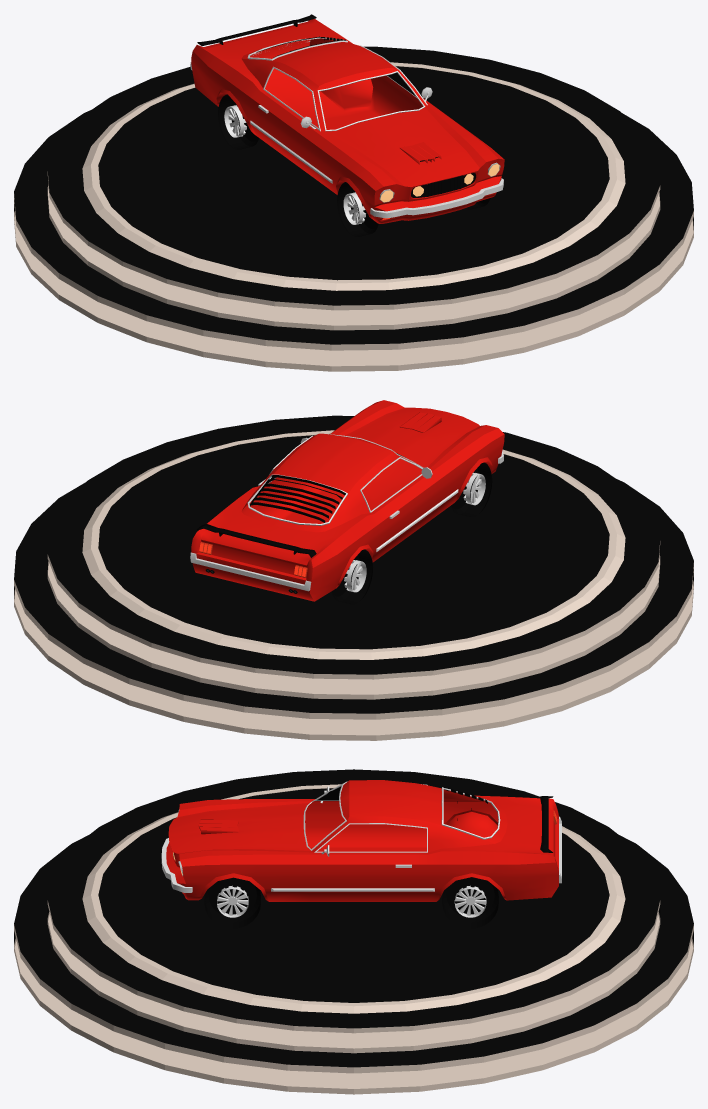
The picture shows the model from 3 angles, top to bottom: view 1: azimuth 30°, elevation 25°; view 2: azimuth 150°, elevation 25°; view 3: azimuth 270°, elevation 25°; orthographic projection.
Visible parts, largest first — view 1: background, Mustang, Circle.001, Circle.002, Circle.009, Circle.006; view 2: background, Mustang, Circle.002, Circle.001, Circle.011; view 3: background, Mustang, Circle.002, Circle.001, Circle.010, Circle.005.
Boxes of the visible parts, left/top/right/bottom form: background: left=14, top=46, right=693, bottom=371; Mustang: left=191, top=14, right=504, bottom=223; Circle.001: left=337, top=182, right=490, bottom=236; Circle.002: left=218, top=94, right=258, bottom=149; Circle.009: left=370, top=178, right=503, bottom=218; Circle.006: left=317, top=71, right=425, bottom=131; background: left=14, top=415, right=693, bottom=740; Mustang: left=191, top=400, right=504, bottom=601; Circle.002: left=331, top=549, right=372, bottom=604; Circle.001: left=451, top=462, right=492, bottom=516; Circle.011: left=190, top=552, right=311, bottom=591; background: left=14, top=769, right=693, bottom=1094; Mustang: left=166, top=780, right=558, bottom=901; Circle.002: left=442, top=877, right=498, bottom=928; Circle.001: left=204, top=877, right=260, bottom=928; Circle.010: left=271, top=888, right=434, bottom=891; Circle.005: left=314, top=781, right=427, bottom=852.
Size of the model in its own units: 5.81 by 1.47 by 5.81.
